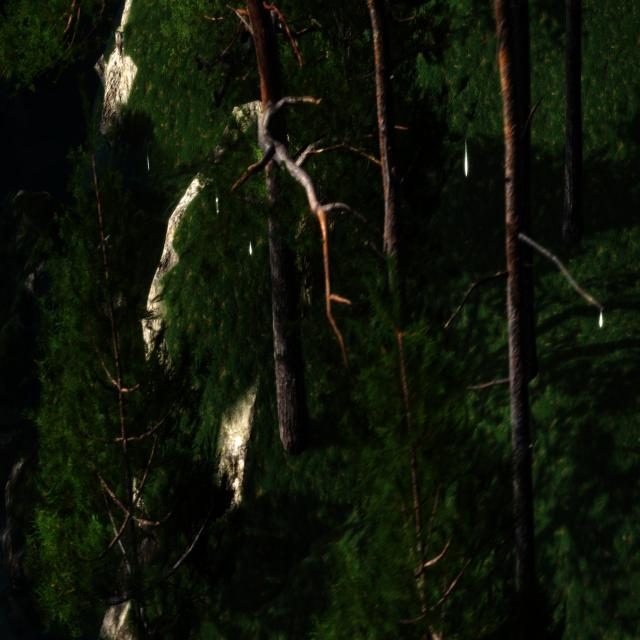Human: (197, 15, 257, 107)
